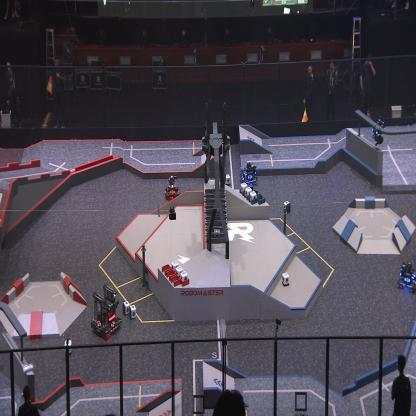car: (90, 282, 122, 338), (397, 260, 416, 294), (238, 160, 258, 186), (164, 175, 180, 198)
